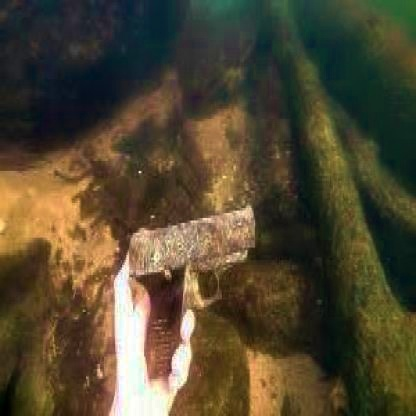misc: (128, 208, 255, 384)
